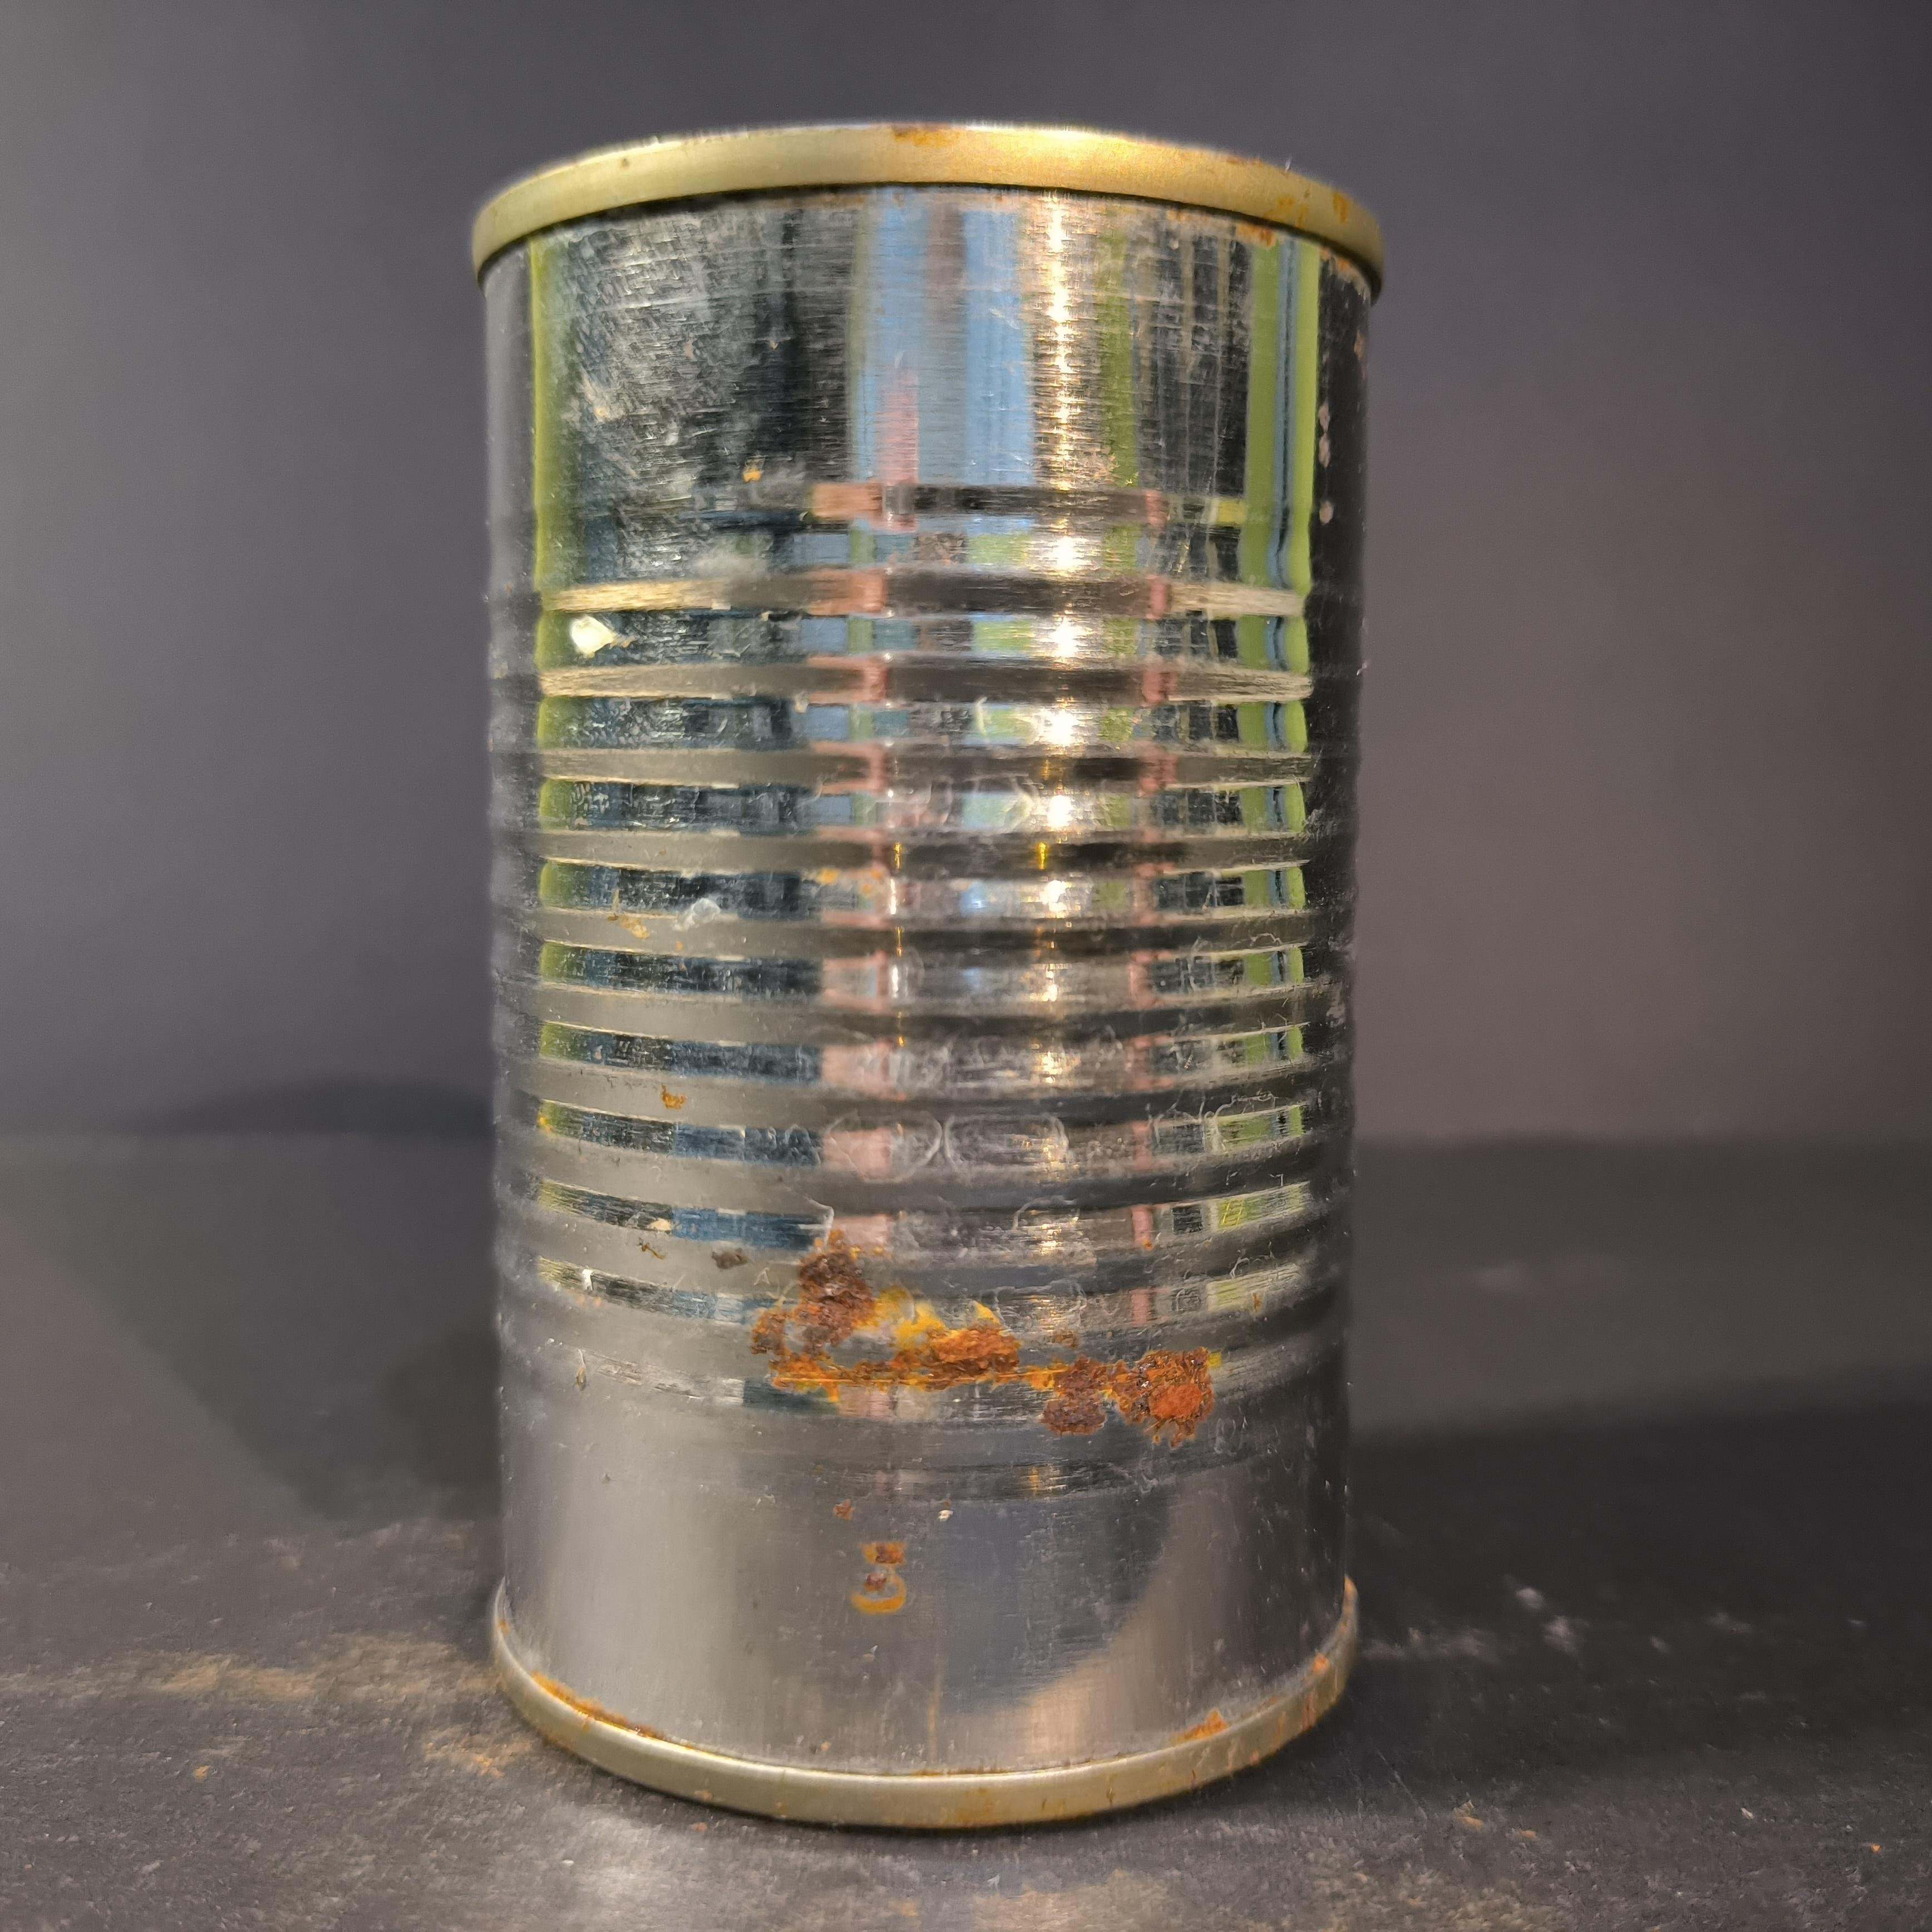Rusted: (462, 69, 1399, 1803)
